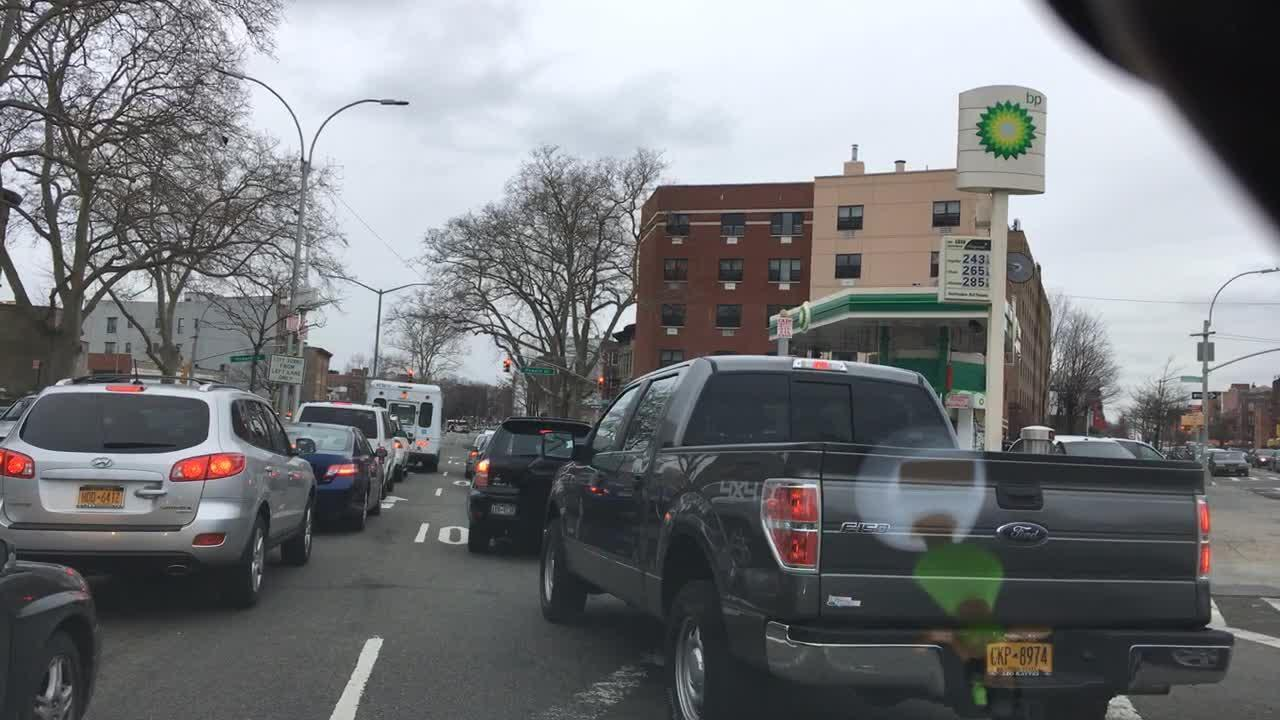Hyundai: (82, 454, 122, 470)
ford: (986, 513, 1068, 553)
